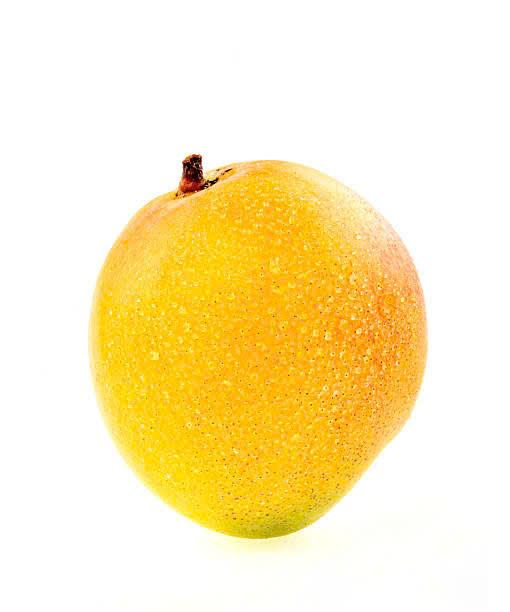mango: (76, 141, 446, 558)
